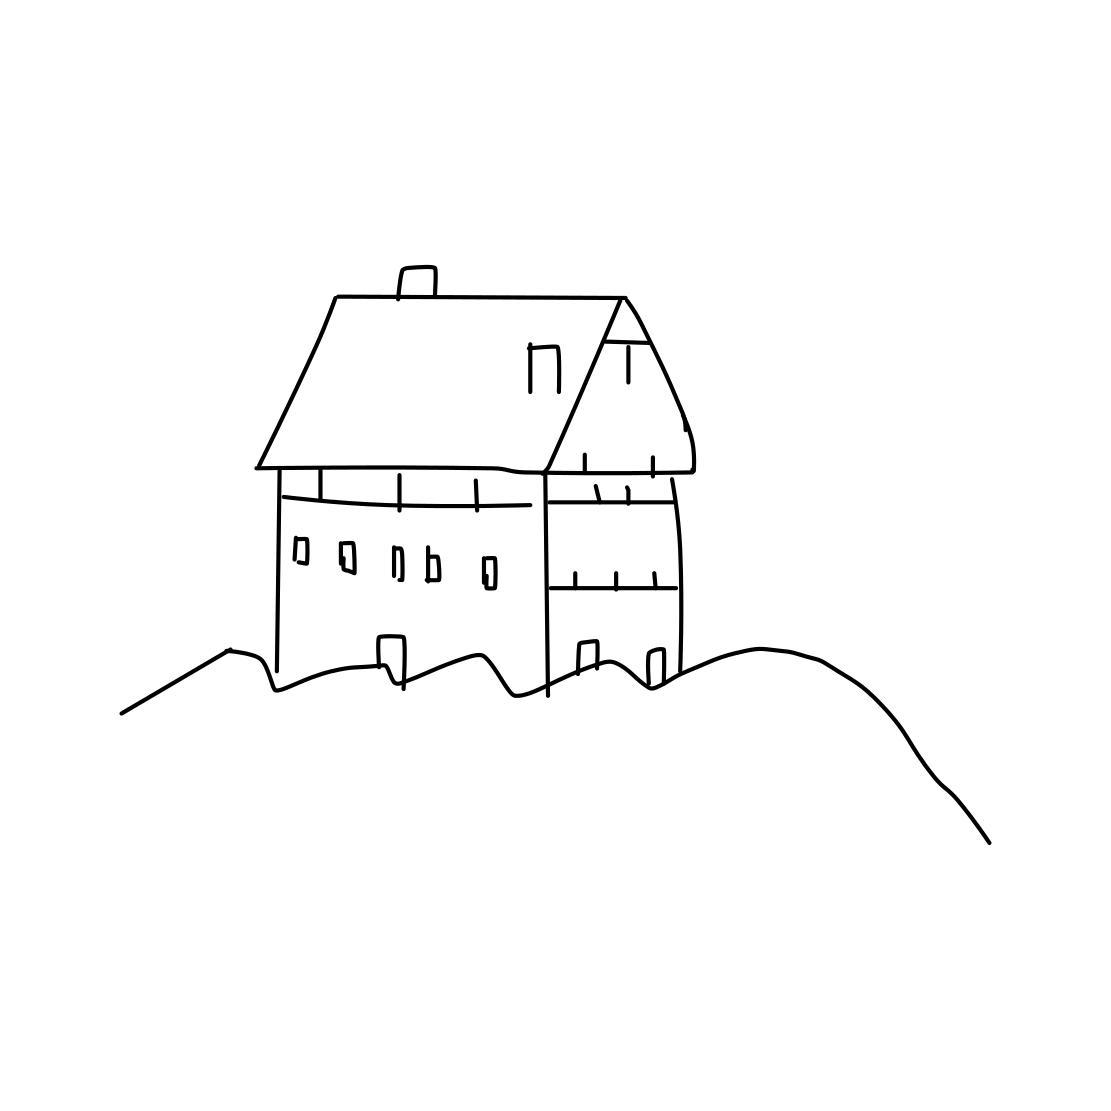House: (251, 221, 711, 733)
